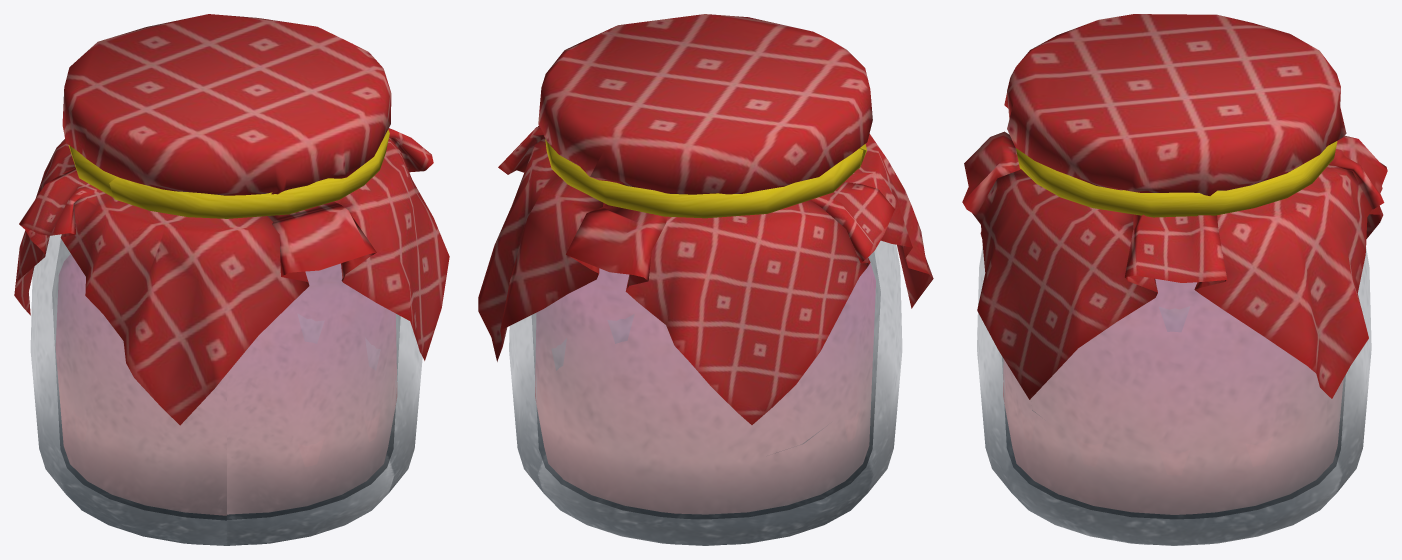
The model's file is jam_jar.glb.
The picture shows the model from 3 angles, left to right: view 1: azimuth 30°, elevation 25°; view 2: azimuth 150°, elevation 25°; view 3: azimuth 270°, elevation 25°; orthographic projection.
Visible parts, largest first — view 1: defaultMaterial.001, defaultMaterial.003, defaultMaterial, defaultMaterial.002; view 2: defaultMaterial.001, defaultMaterial.003, defaultMaterial, defaultMaterial.002; view 3: defaultMaterial.001, defaultMaterial.003, defaultMaterial, defaultMaterial.002.
Part boxes in pixels (x1=…): defaultMaterial.001: x1=14, y1=14, x2=449, y2=425; defaultMaterial.003: x1=31, y1=234, x2=422, y2=545; defaultMaterial: x1=56, y1=254, x2=396, y2=514; defaultMaterial.002: x1=68, y1=129, x2=389, y2=218; defaultMaterial.001: x1=478, y1=14, x2=933, y2=424; defaultMaterial.003: x1=509, y1=241, x2=901, y2=545; defaultMaterial: x1=535, y1=263, x2=875, y2=513; defaultMaterial.002: x1=545, y1=139, x2=866, y2=218; defaultMaterial.001: x1=962, y1=14, x2=1387, y2=399; defaultMaterial.003: x1=977, y1=247, x2=1371, y2=545; defaultMaterial: x1=1003, y1=279, x2=1343, y2=514; defaultMaterial.002: x1=1016, y1=141, x2=1337, y2=217.
Size of the model in its own units: 226 by 242 by 223.
Materials: 2 (2 with a texture image).
